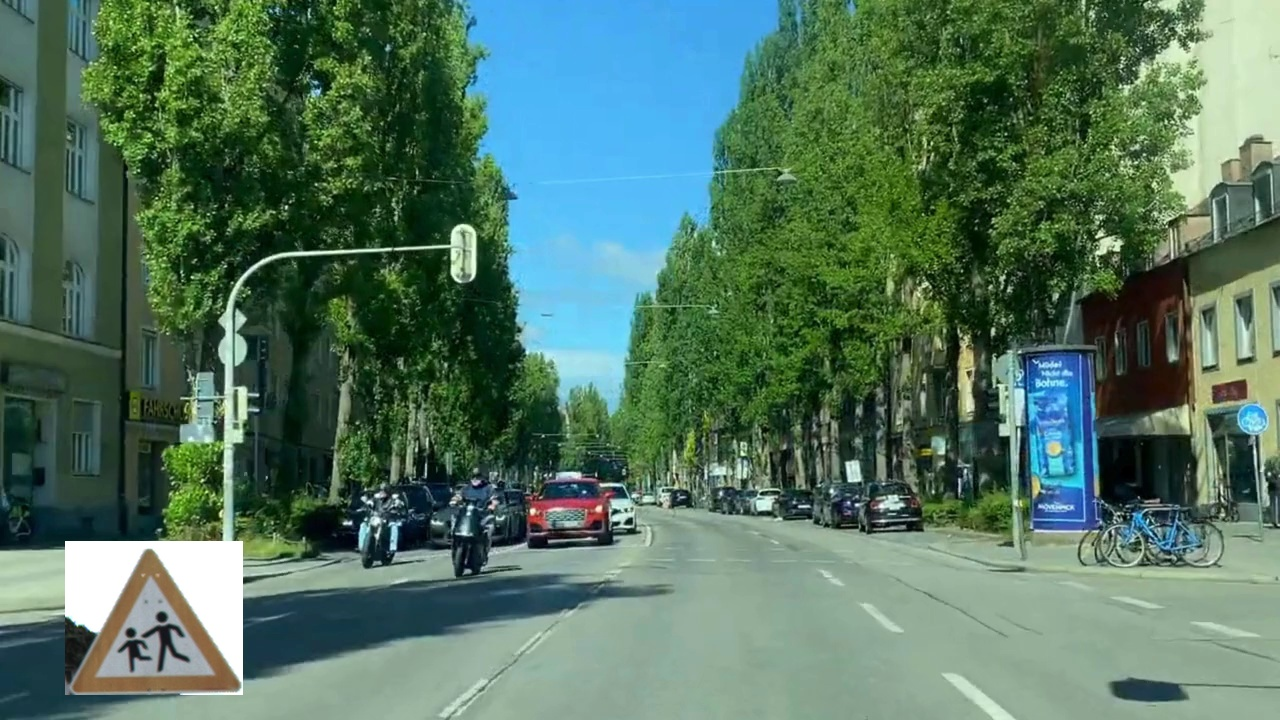Children: (65, 541, 243, 695)
